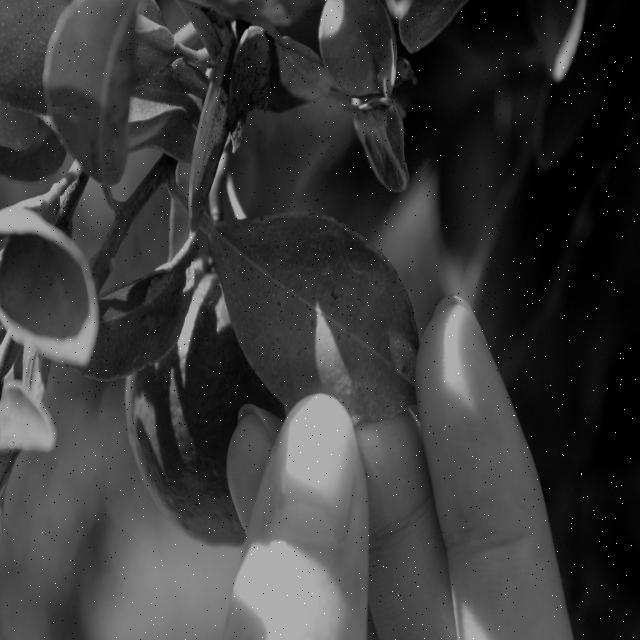blackspot: (234, 209, 424, 434), (56, 254, 190, 381), (218, 34, 290, 130)
